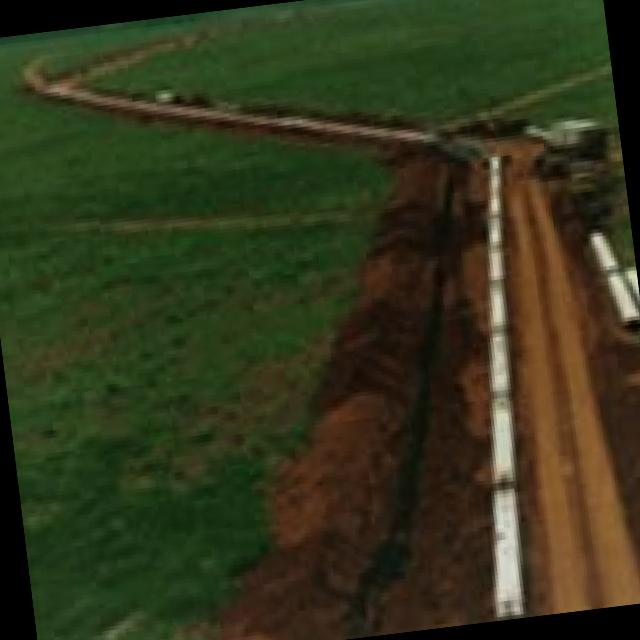gas: (487, 158, 523, 619)
